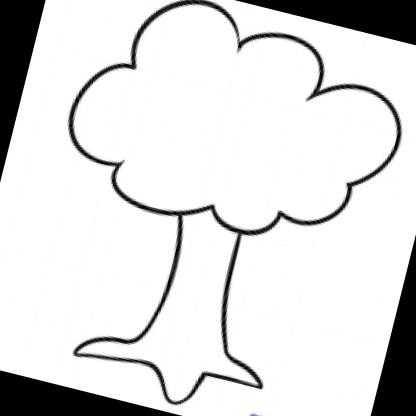crown_cloud: (50, 0, 416, 266)
root_only: (67, 316, 271, 416)
trunk_straight: (148, 224, 252, 350)
